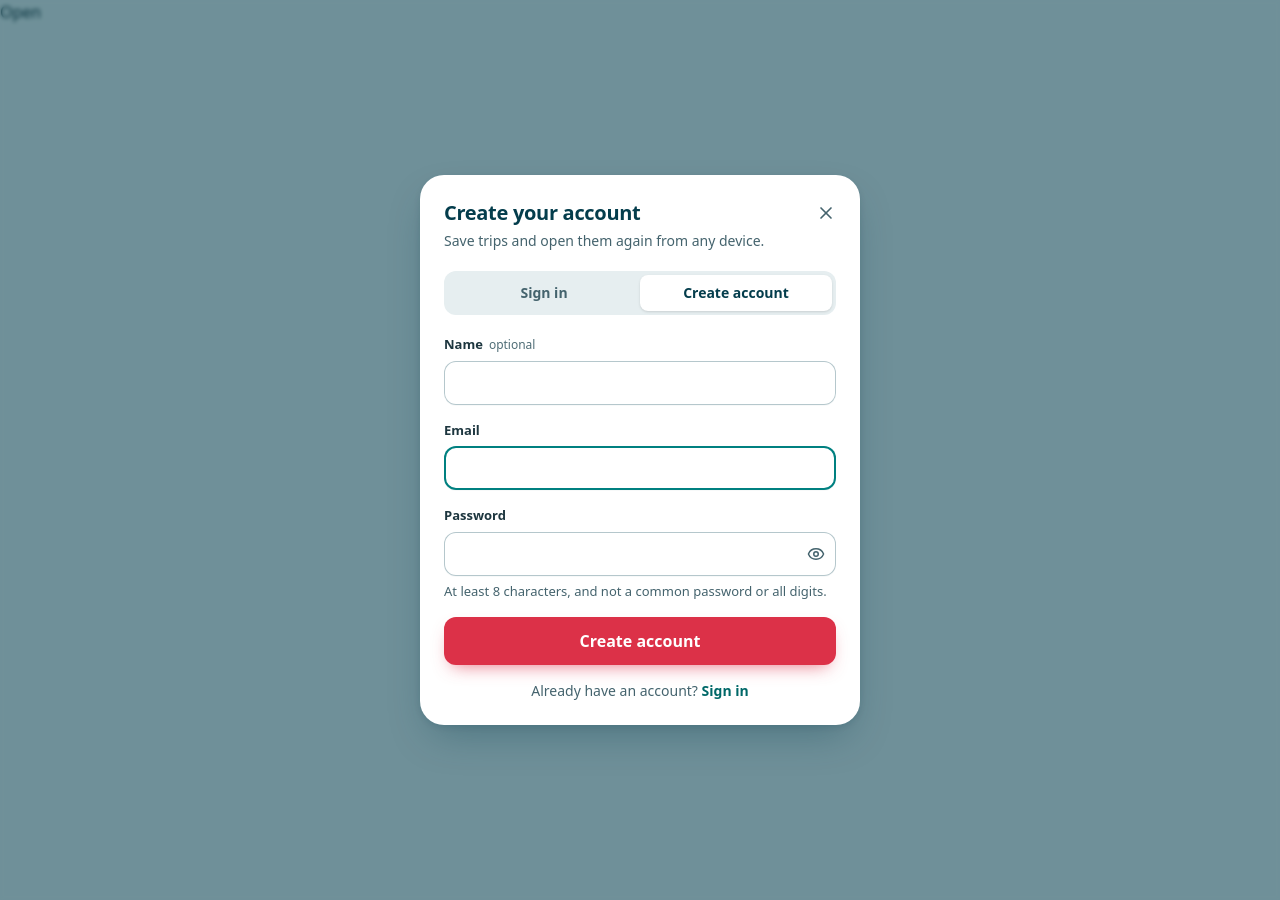
AuthDialog › checks before sending › words the missing password for the mode
What coordinates should you click on to do the following:
click the button with test id "btn-auth-submit"
I would click on:
 (640, 641)
Its box is [444, 617, 836, 665].
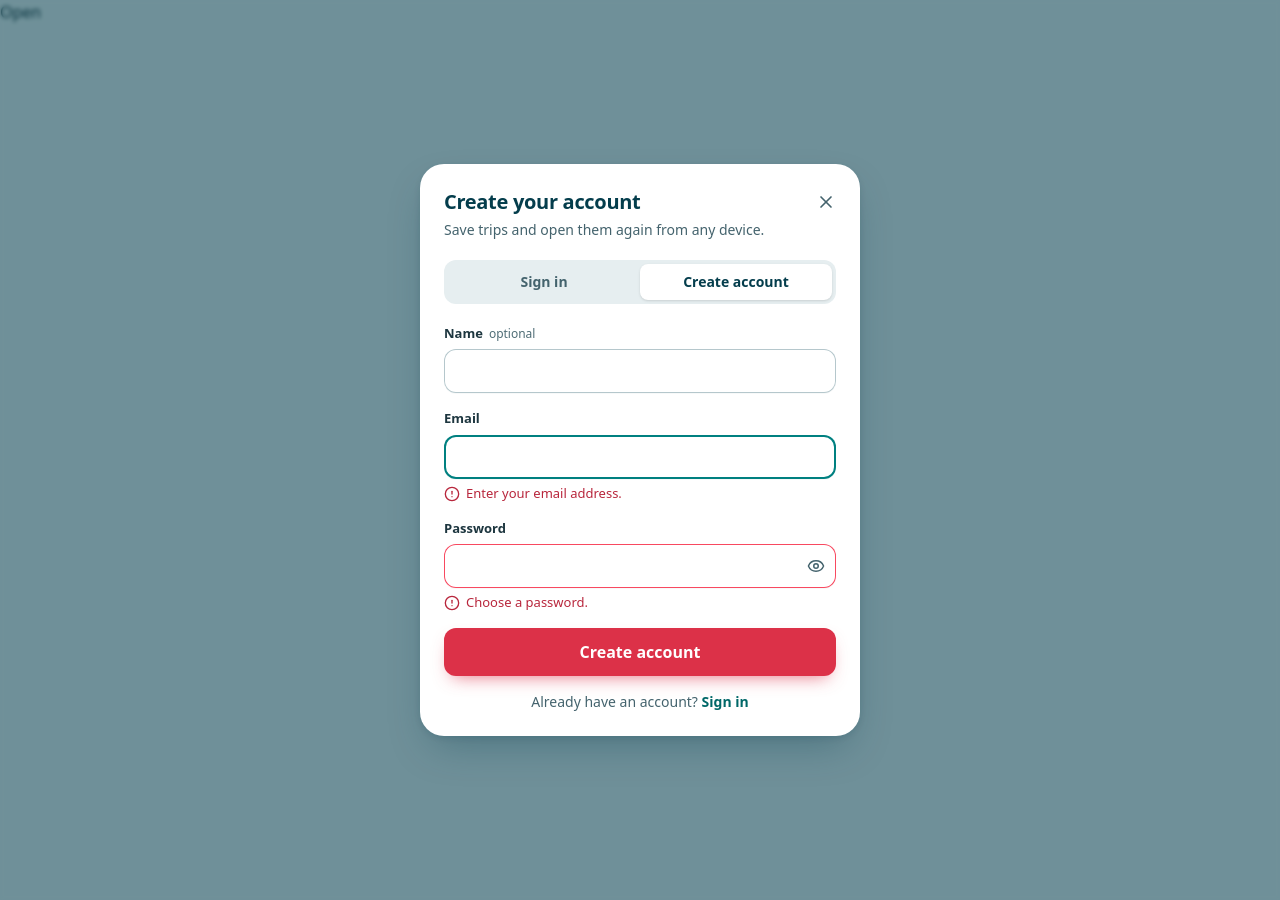
Expected: the text "Choose a password." is shown, [466, 594, 588, 612]
